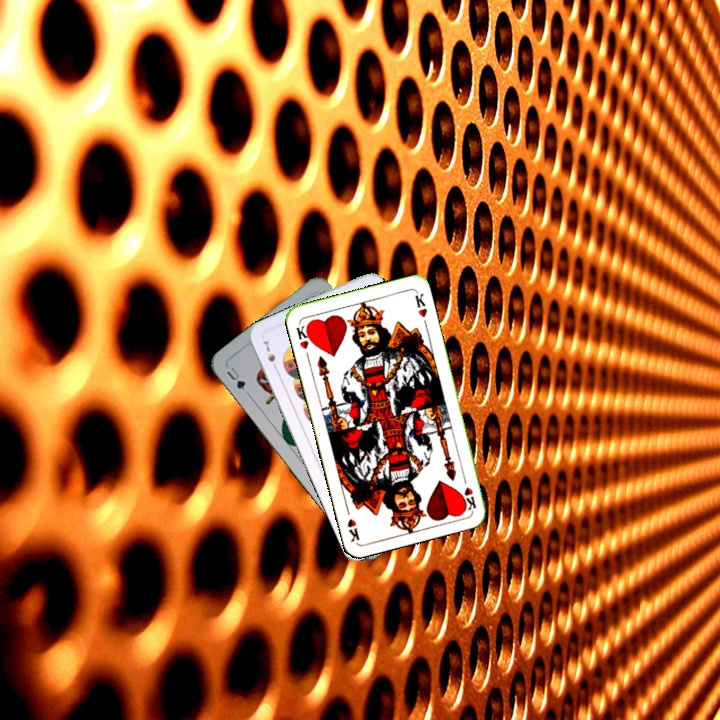GU: (222, 363, 249, 393)
HK: (459, 472, 479, 512), (292, 320, 315, 352)
S7: (259, 335, 280, 374)
